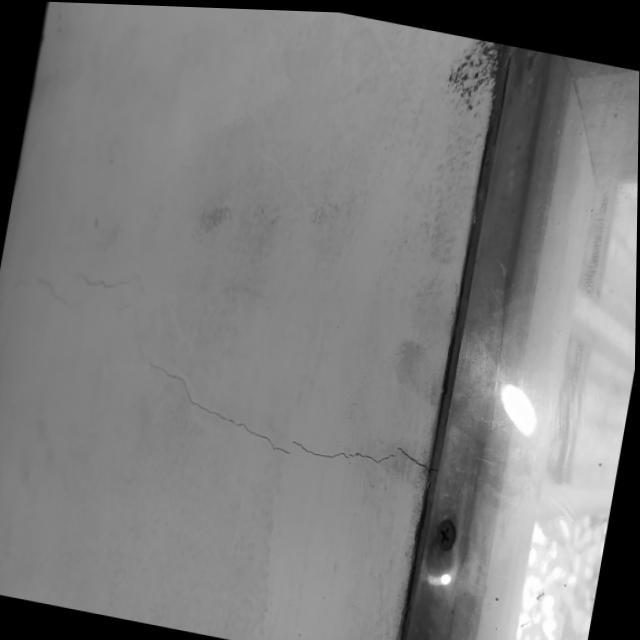Crack: (138, 353, 423, 471)
